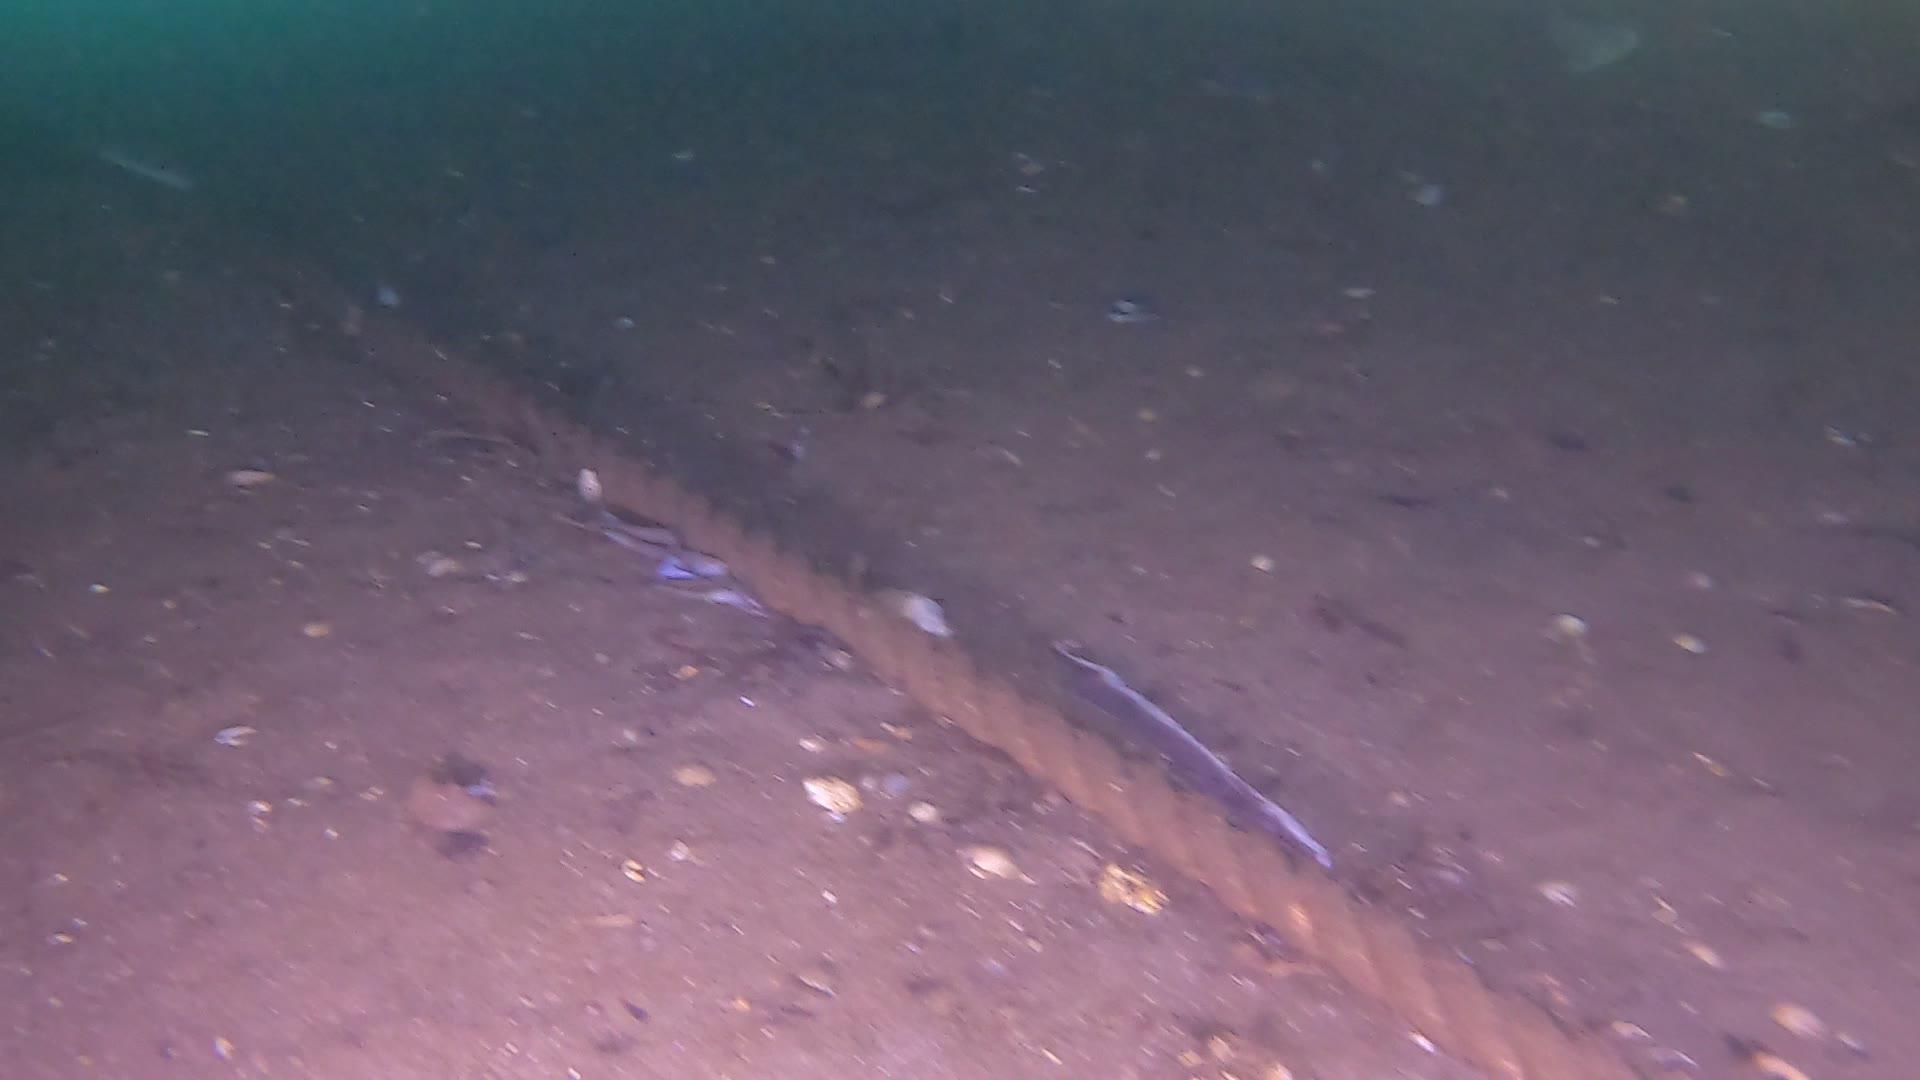rope: (0, 372, 1669, 1080)
